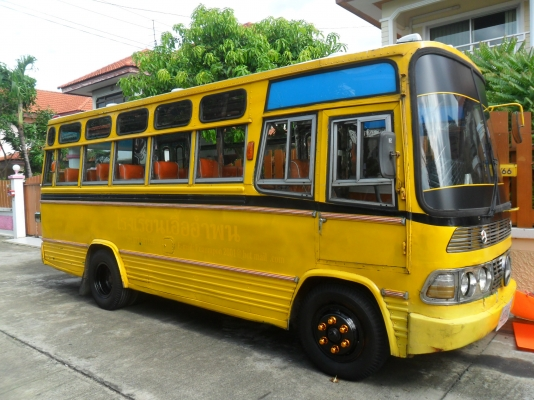bus: (36, 39, 518, 379)
